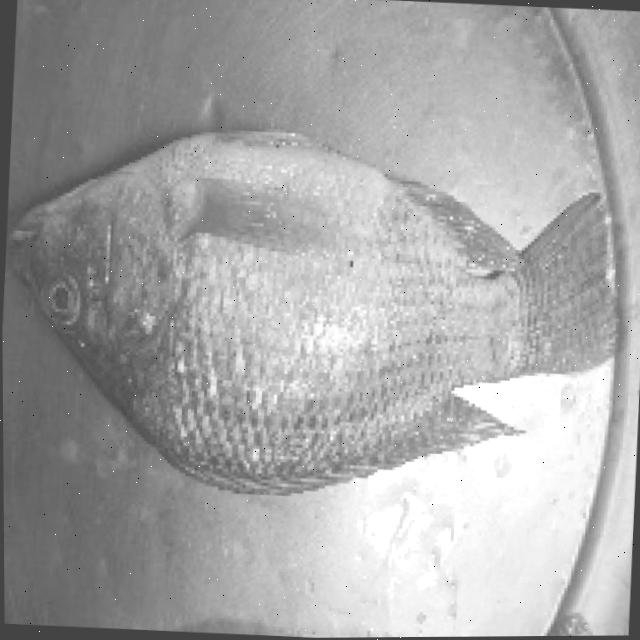Fresh: (0, 62, 640, 519)
